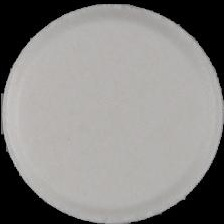63187-201: (0, 0, 224, 224)
